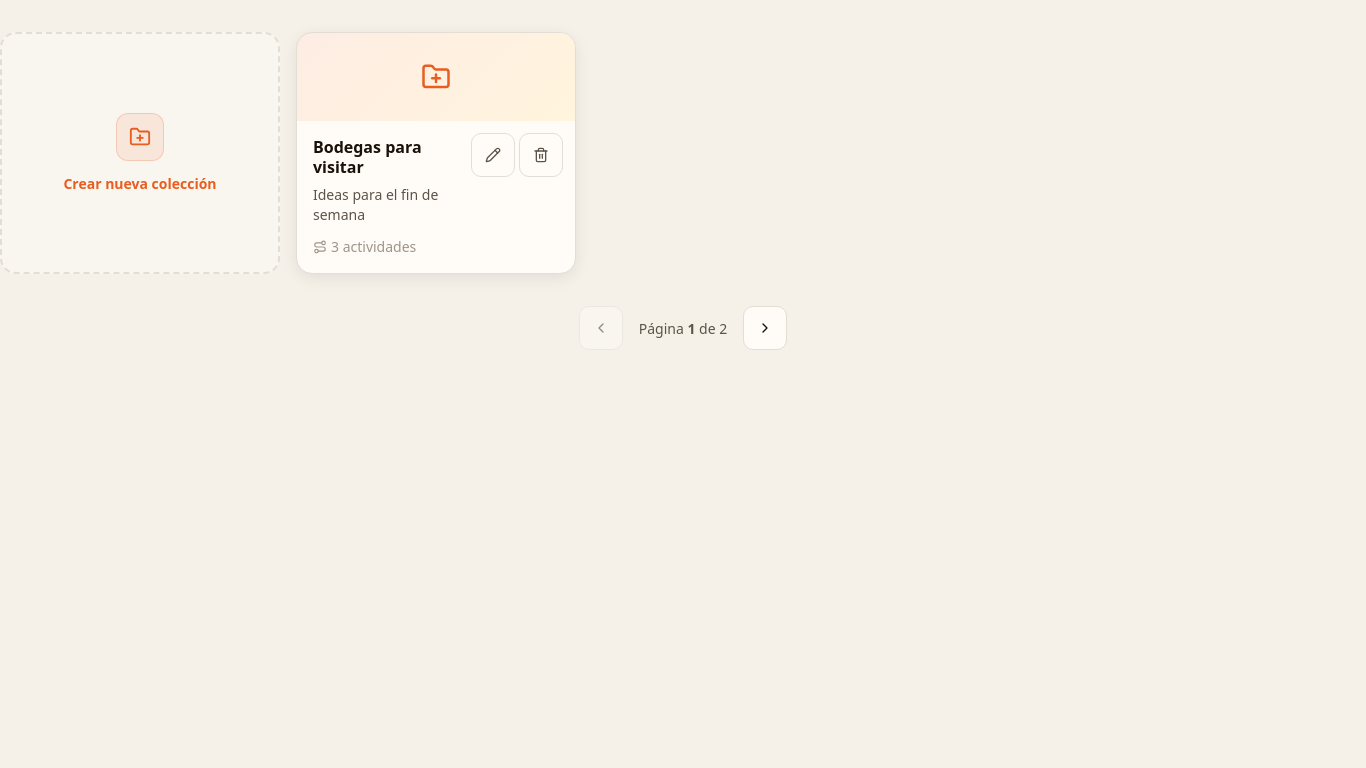
Test: CollectionsPanel › paginates and returns to the previous page when the last card is deleted
Click the button named "Página siguiente". click: click(765, 328)
box: left=743, top=306, right=787, bottom=350
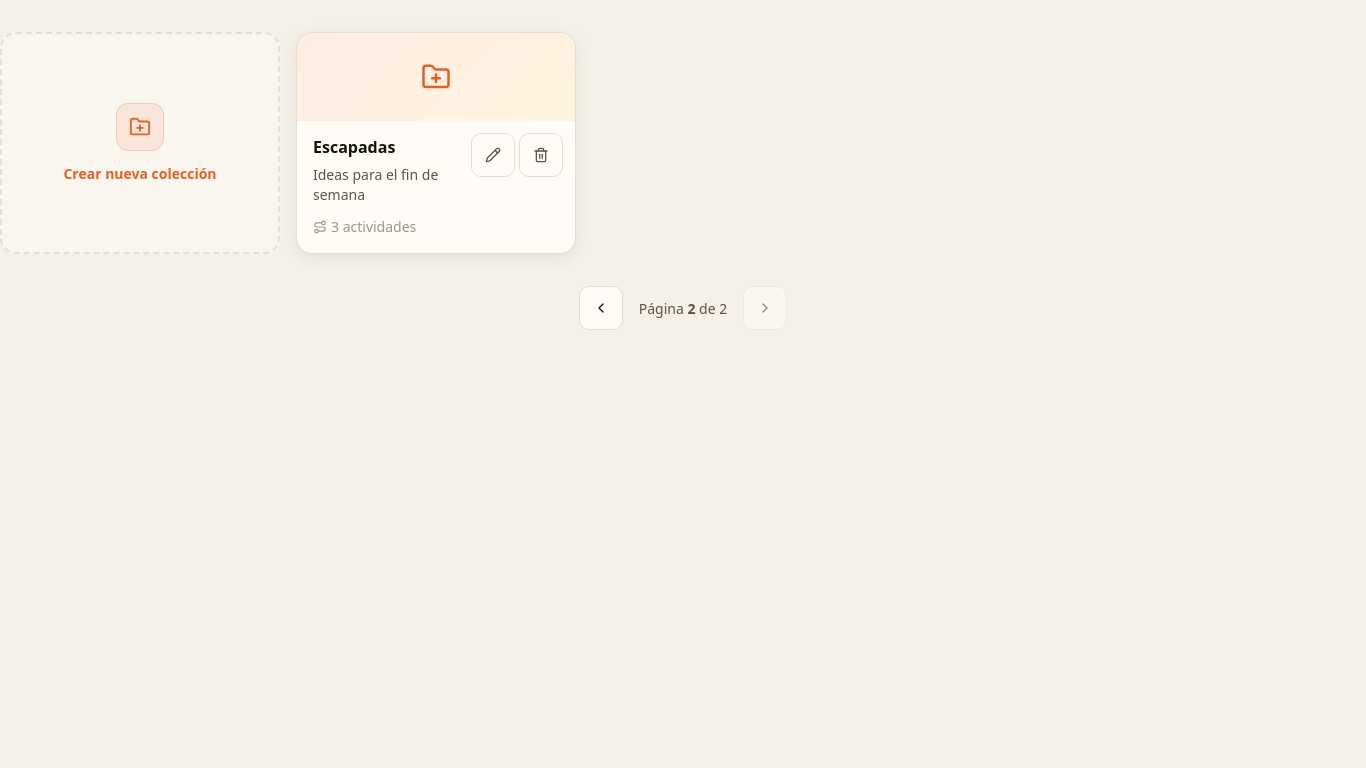
Result: the heading "Escapadas" is shown at left=313, top=136, right=395, bottom=158
Click the button named "Eliminar Escapadas". click: click(541, 155)
box: left=519, top=133, right=563, bottom=177
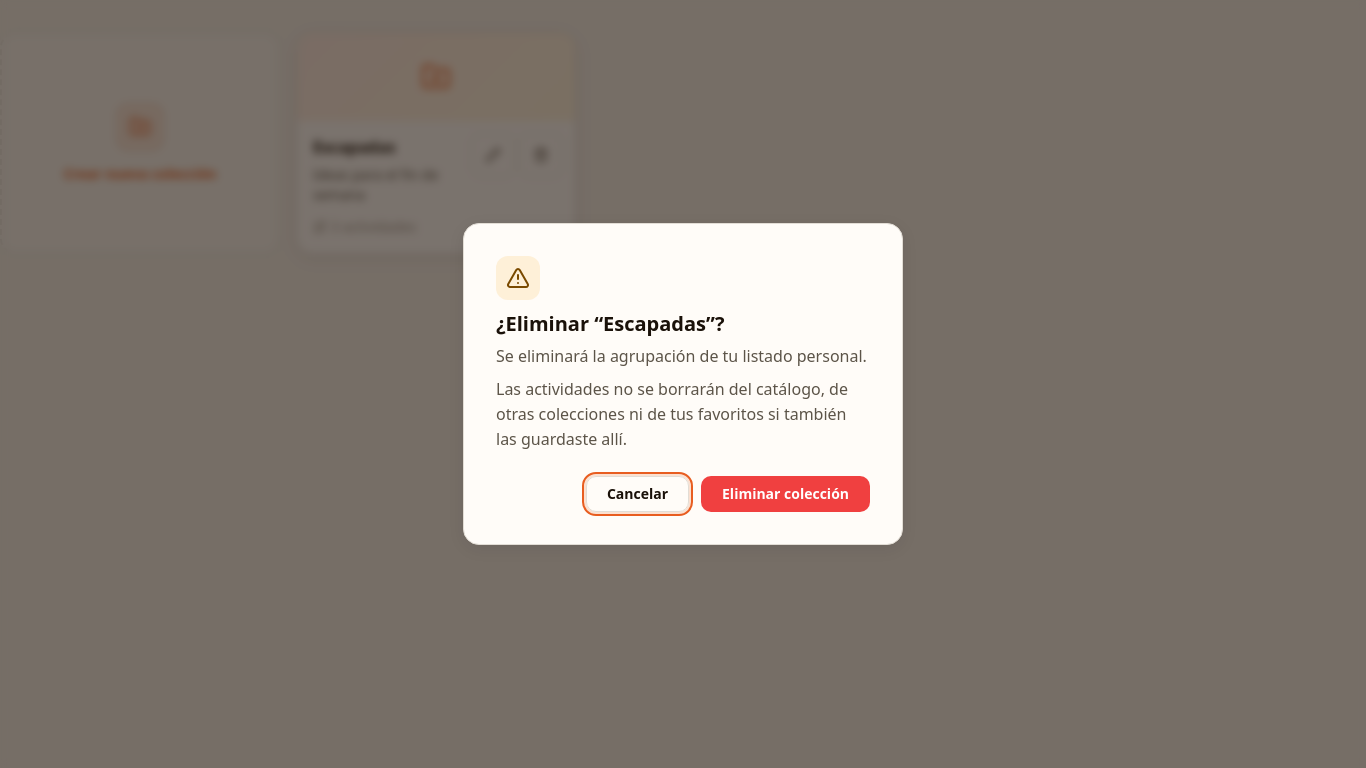
Click the button "Eliminar colección". click: click(786, 494)
box: left=701, top=476, right=870, bottom=512
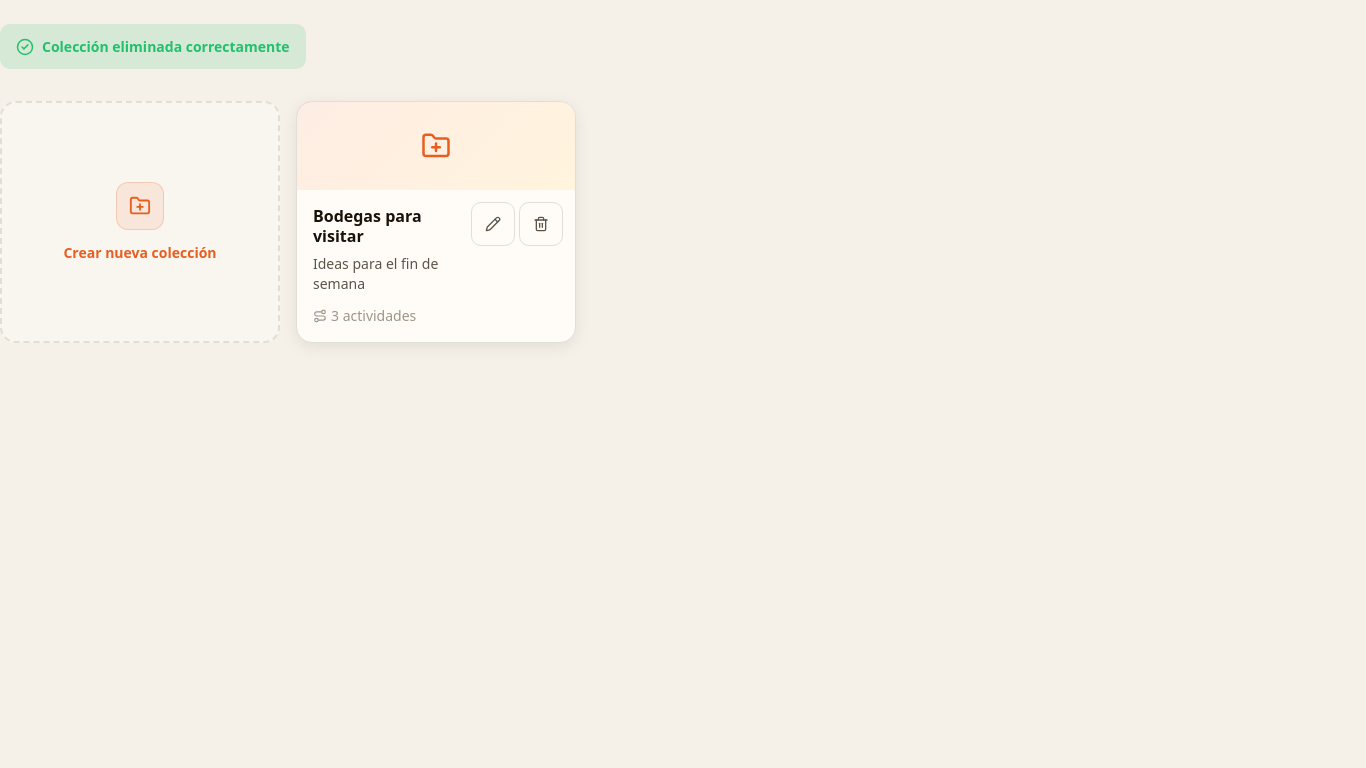
Result: the heading "Bodegas para visitar" is shown at left=313, top=205, right=422, bottom=247
